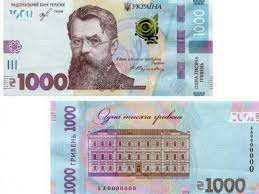bn_1000: (4, 0, 213, 96), (52, 101, 259, 194)
